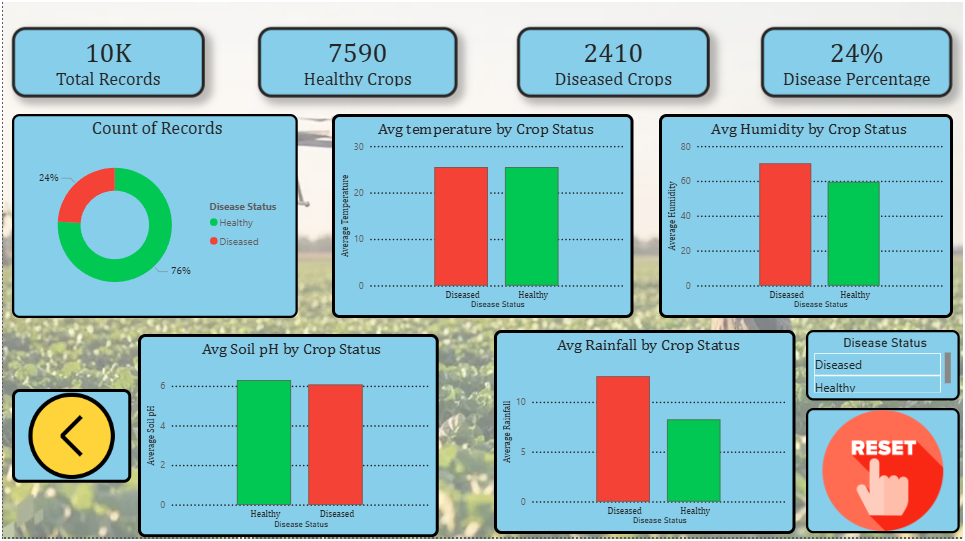

This screenshot's page, from the dashboard's own definition file:
{"tool":"powerbi","page":{"name":"main","canvas":[1280,720],"ordinal":1},"visuals":[{"type":"advanceCardE03760C5AB684758B56AA29F9E6C257B","fields":{"mainMeasure":["plant_disease_powerbi_export.Healthy Crops"]},"box":[374.2,58.7,264,93.3],"z":0},{"type":"advanceCardE03760C5AB684758B56AA29F9E6C257B","fields":{"mainMeasure":["plant_disease_powerbi_export.Total Records"]},"box":[102.7,58.7,257.3,93.3],"z":1000},{"type":"advanceCardE03760C5AB684758B56AA29F9E6C257B","fields":{"mainMeasure":["plant_disease_powerbi_export.Diseased Crops"]},"box":[645.3,58.7,256,93.3],"z":2000},{"type":"advanceCardE03760C5AB684758B56AA29F9E6C257B","fields":{"mainMeasure":["plant_disease_powerbi_export.Disease Percentage"]},"box":[916,58.7,254.7,93.3],"z":3000},{"type":"donutChart","title":"Crop Health Distribution","fields":{"Y":["CountNonNull(plant_disease_powerbi_export.disease_present)"],"Category":["plant_disease_powerbi_export.Disease Status"]},"box":[0,164,381.3,270.7],"z":4000},{"type":"clusteredColumnChart","title":"Avg Temperature by Crop Status","fields":{"Category":["plant_disease_powerbi_export.Disease Status"],"Y":["plant_disease_powerbi_export.Average Temperature"]},"box":[437.3,162.7,404,272],"z":5000},{"type":"clusteredColumnChart","title":"Avg Humidity by Crop Status","fields":{"Category":["plant_disease_powerbi_export.Disease Status"],"Y":["plant_disease_powerbi_export.Average Humidity"]},"box":[888,162.7,392,270.7],"z":6000},{"type":"image","box":[0,58.7,94.7,93.3],"z":7000},{"type":"image","box":[1068,585.3,205.3,134.7],"z":8000},{"type":"clusteredColumnChart","title":"Avg Soil pH by Crop Status","fields":{"Category":["plant_disease_powerbi_export.Disease Status"],"Y":["plant_disease_powerbi_export.Average Soil pH"]},"box":[0,450.1,425.3,269.8],"z":9000},{"type":"clusteredColumnChart","title":"Avg Rainfall by Crop Status","fields":{"Category":["plant_disease_powerbi_export.Disease Status"],"Y":["plant_disease_powerbi_export.Average Rainfall"]},"box":[506.5,448.7,473.5,271.1],"z":10000},{"type":"listSlicer","fields":{"Values":["plant_disease_powerbi_export.Disease Status"]},"box":[1068,449.3,205.3,118.7],"z":11000},{"type":"image","box":[1185.3,58.7,94.7,93.3],"z":13000},{"type":"textbox","box":[506.7,1.3,300,52],"z":14000},{"type":"image","box":[927.7,68.8,68.8,37.2],"z":14001},{"type":"image","box":[351,68.8,126.6,48.2],"z":14002},{"type":"image","box":[656.5,68.8,67.4,48.2],"z":14003},{"type":"image","box":[103.2,68.8,78.5,48.2],"z":14004}]}

Visuals, with their boxes in screenshot pixels (x1, y1, x2, y2), scaled from the page's 1280x720 canvas onto the 965x541 screenshot:
advanceCardE03760C5AB684758B56AA29F9E6C257B - plant_disease_powerbi_export.Healthy Crops: [282, 44, 481, 114]
advanceCardE03760C5AB684758B56AA29F9E6C257B - plant_disease_powerbi_export.Total Records: [77, 44, 271, 114]
advanceCardE03760C5AB684758B56AA29F9E6C257B - plant_disease_powerbi_export.Diseased Crops: [486, 44, 679, 114]
advanceCardE03760C5AB684758B56AA29F9E6C257B - plant_disease_powerbi_export.Disease Percentage: [691, 44, 883, 114]
"Crop Health Distribution" donutChart: [0, 123, 287, 327]
"Avg Temperature by Crop Status" clusteredColumnChart: [330, 122, 634, 327]
"Avg Humidity by Crop Status" clusteredColumnChart: [669, 122, 964, 326]
image: [0, 44, 71, 114]
image: [805, 440, 960, 540]
"Avg Soil pH by Crop Status" clusteredColumnChart: [0, 338, 321, 540]
"Avg Rainfall by Crop Status" clusteredColumnChart: [382, 337, 739, 540]
listSlicer - plant_disease_powerbi_export.Disease Status: [805, 338, 960, 427]
image: [894, 44, 964, 114]
textbox: [382, 1, 608, 40]
image: [699, 52, 751, 80]
image: [265, 52, 360, 88]
image: [495, 52, 546, 88]
image: [78, 52, 137, 88]
